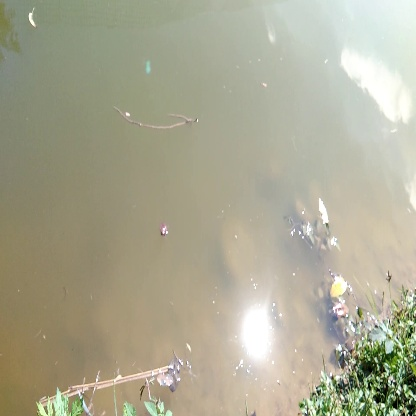branch: (111, 97, 203, 140)
